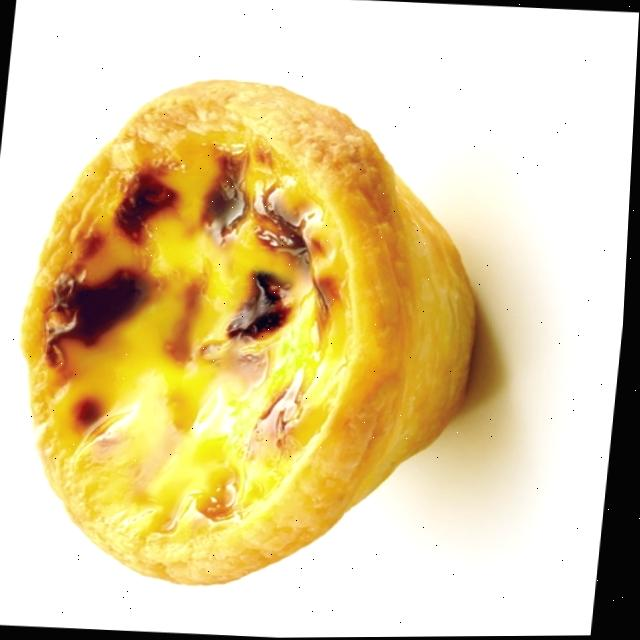炸货点心: (0, 43, 526, 608)
蛋糕甜品: (0, 43, 526, 608)
